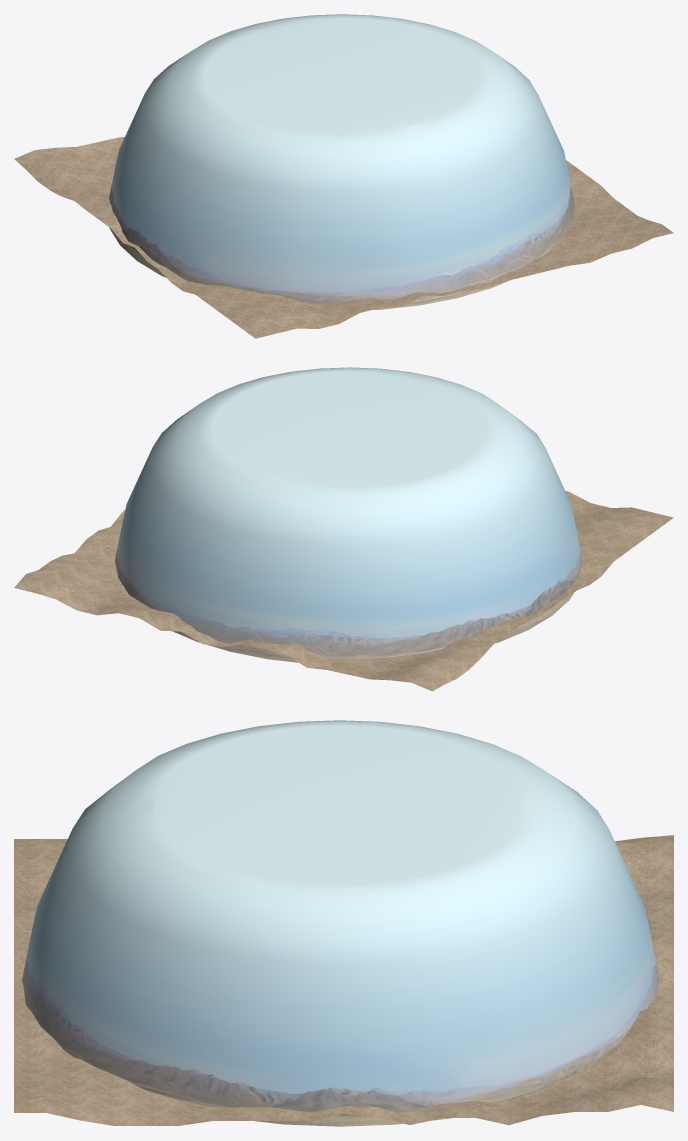
The model's file is Desert_Panorama.fbx.
3 renders of one model, top to bottom at view 1: azimuth 30°, elevation 25°; view 2: azimuth 150°, elevation 25°; view 3: azimuth 270°, elevation 25°, orthographic. The views are drawn at different scales.
Visible parts, largest first — view 1: Desert_Sky, Desert_Background; view 2: Desert_Sky, Desert_Background; view 3: Desert_Sky, Desert_Background.
Boxes of the visible parts, left/top/right/bottom form: Desert_Sky: left=109, top=14, right=575, bottom=309; Desert_Background: left=14, top=137, right=673, bottom=338; Desert_Sky: left=115, top=367, right=581, bottom=662; Desert_Background: left=14, top=491, right=673, bottom=691; Desert_Sky: left=22, top=720, right=659, bottom=1126; Desert_Background: left=14, top=835, right=673, bottom=1125.
Size of the model in its own units: 1455 by 452 by 1455.
